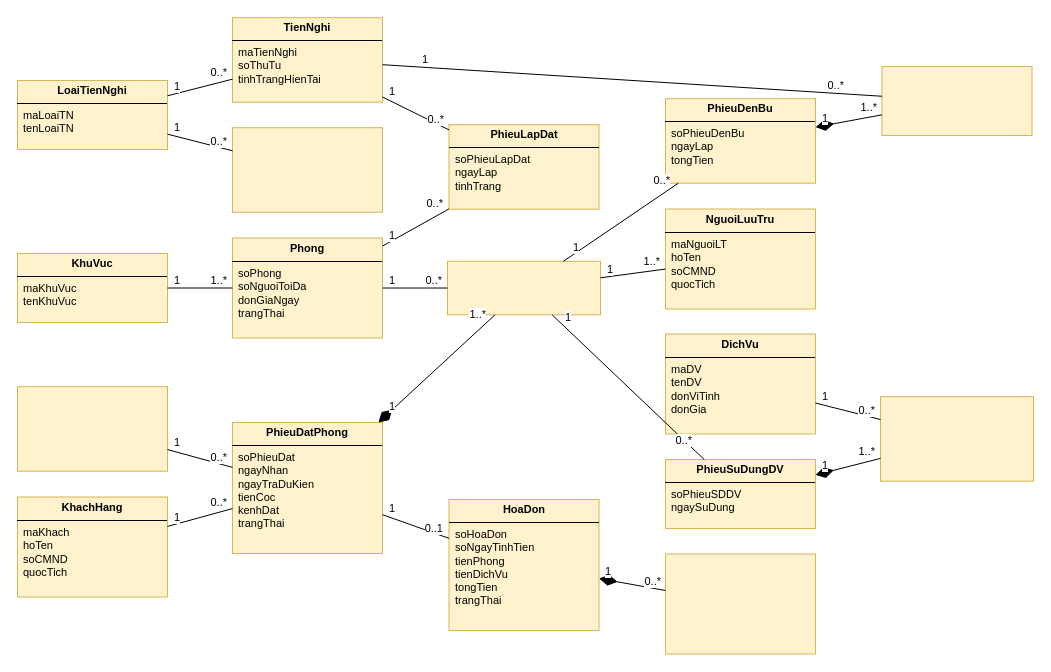
Some shapes in this 1051 by 672 pixel diagram are drawn without their labels. Each missing label, with the centre of its shape:
ChiTietDatPhong soNguoi: point 523,287
ChiTietDenBu mucDoThietHai soTien: point 956,101
ChiTietSuDungDV soLuong donGia thanhTien: point 957,438
NhanVien maNV hoTen vaiTro: point 92,428
QuyDinhDenBu maQuyDinh mucDoThietHai mucDenBu: point 307,169
ThanhToan maThanhToan ngayThanhToan hinhThuc soTien: point 740,603
